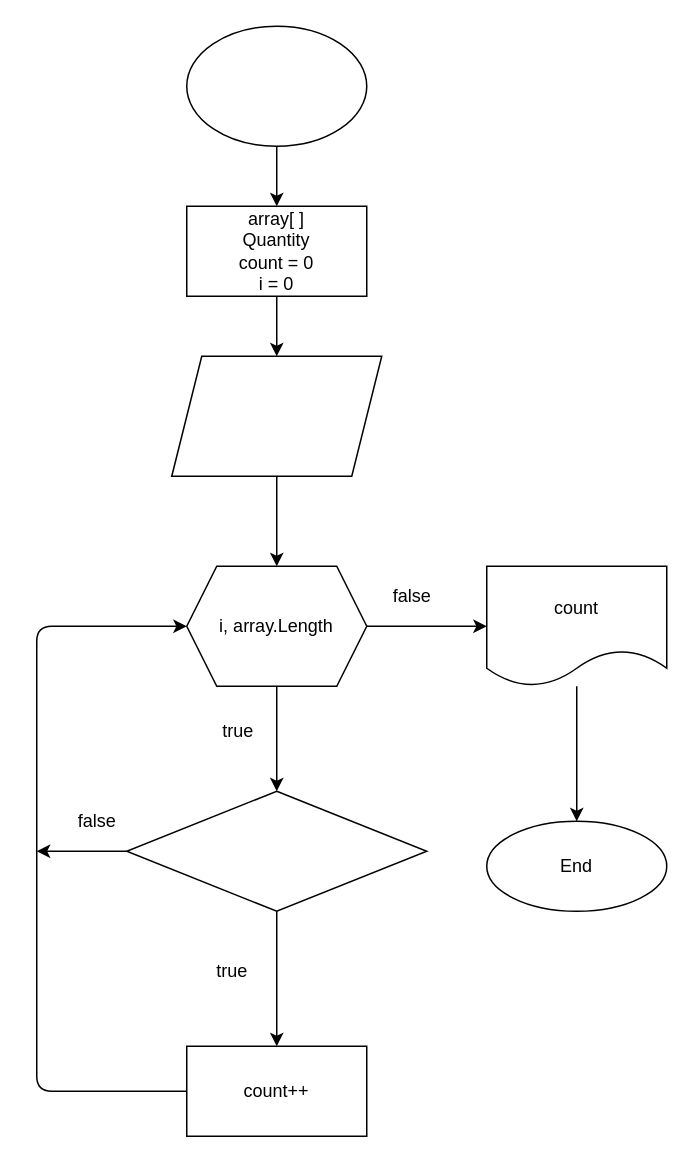
Image size: 693x1163. Some labels were removed from this diagram. Here are the shapes that lost their labels. From the top down, the centre of each, then its label:
At (276,85): "Strart".
At (276,415): "array[ ] Quantity".
At (276,850): "array[i].Length <= Quantity".
